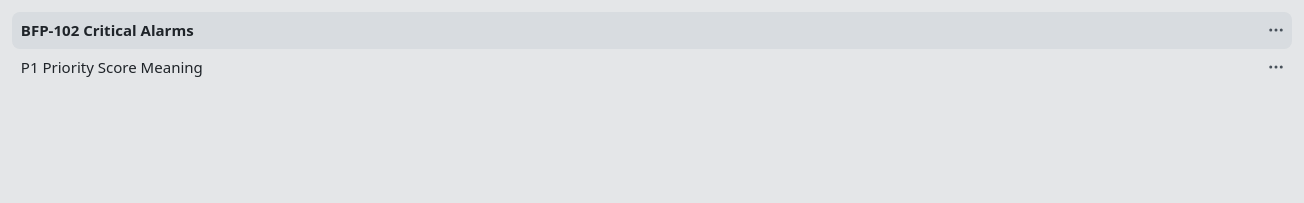
Test: a failed rename says so next to the chat
Step 1. Click the button named "Options for P1 Priority Score Meaning" → click(1276, 67), box [1260, 51, 1292, 83]
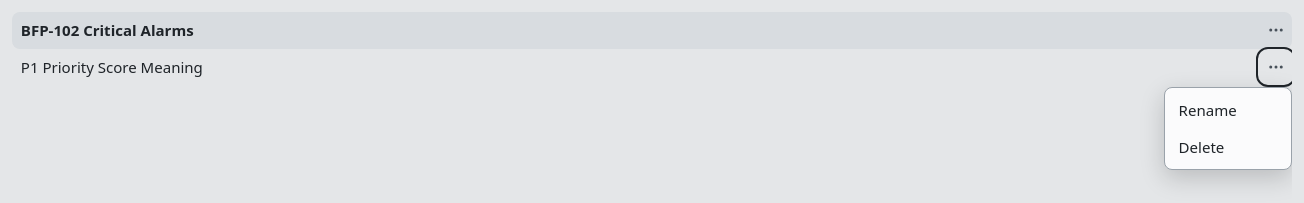
Step 2. Click the button "Rename" → click(1228, 110), box [1169, 92, 1287, 128]
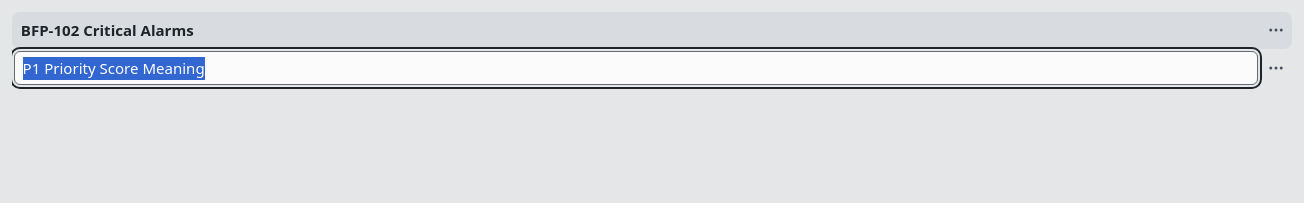
Step 3. Type "x" into the field named "Chat name" → (636, 68), box [14, 51, 1258, 85]
Then press Enter
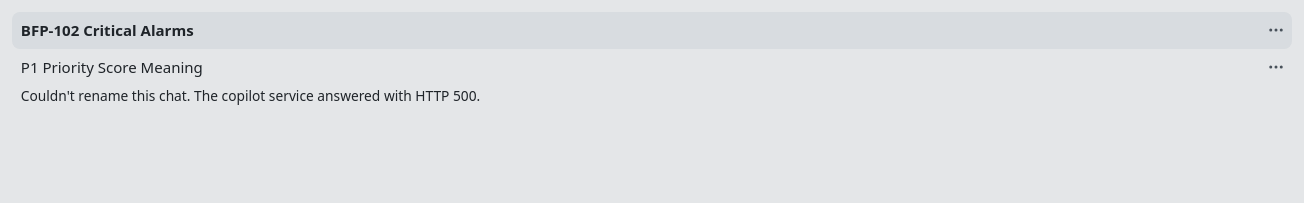
Now the message shows "Couldn't rename this chat.", box [21, 86, 480, 105]
